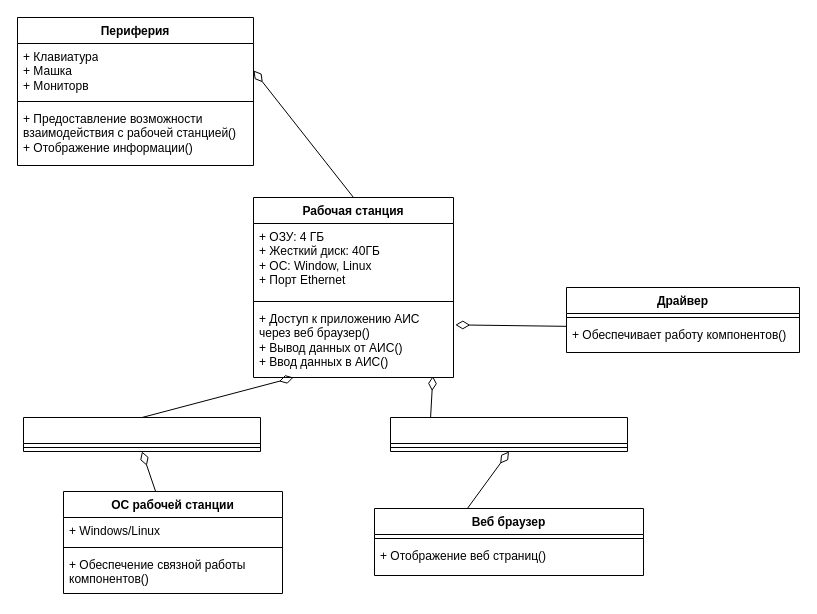
Image size: 817x614. Some labels were removed from this diagram. Each missing label, with the centre of its shape:
"Прикладное ПО" belongs at point 509,434.
"Системное ПО" belongs at point 141,434.
